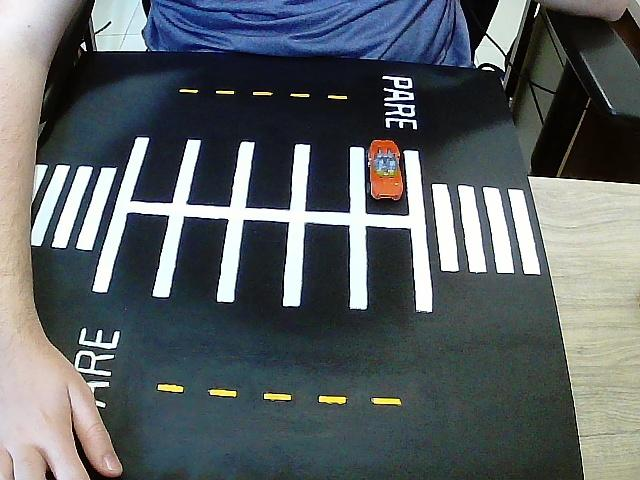Carro: (370, 140, 405, 201)
